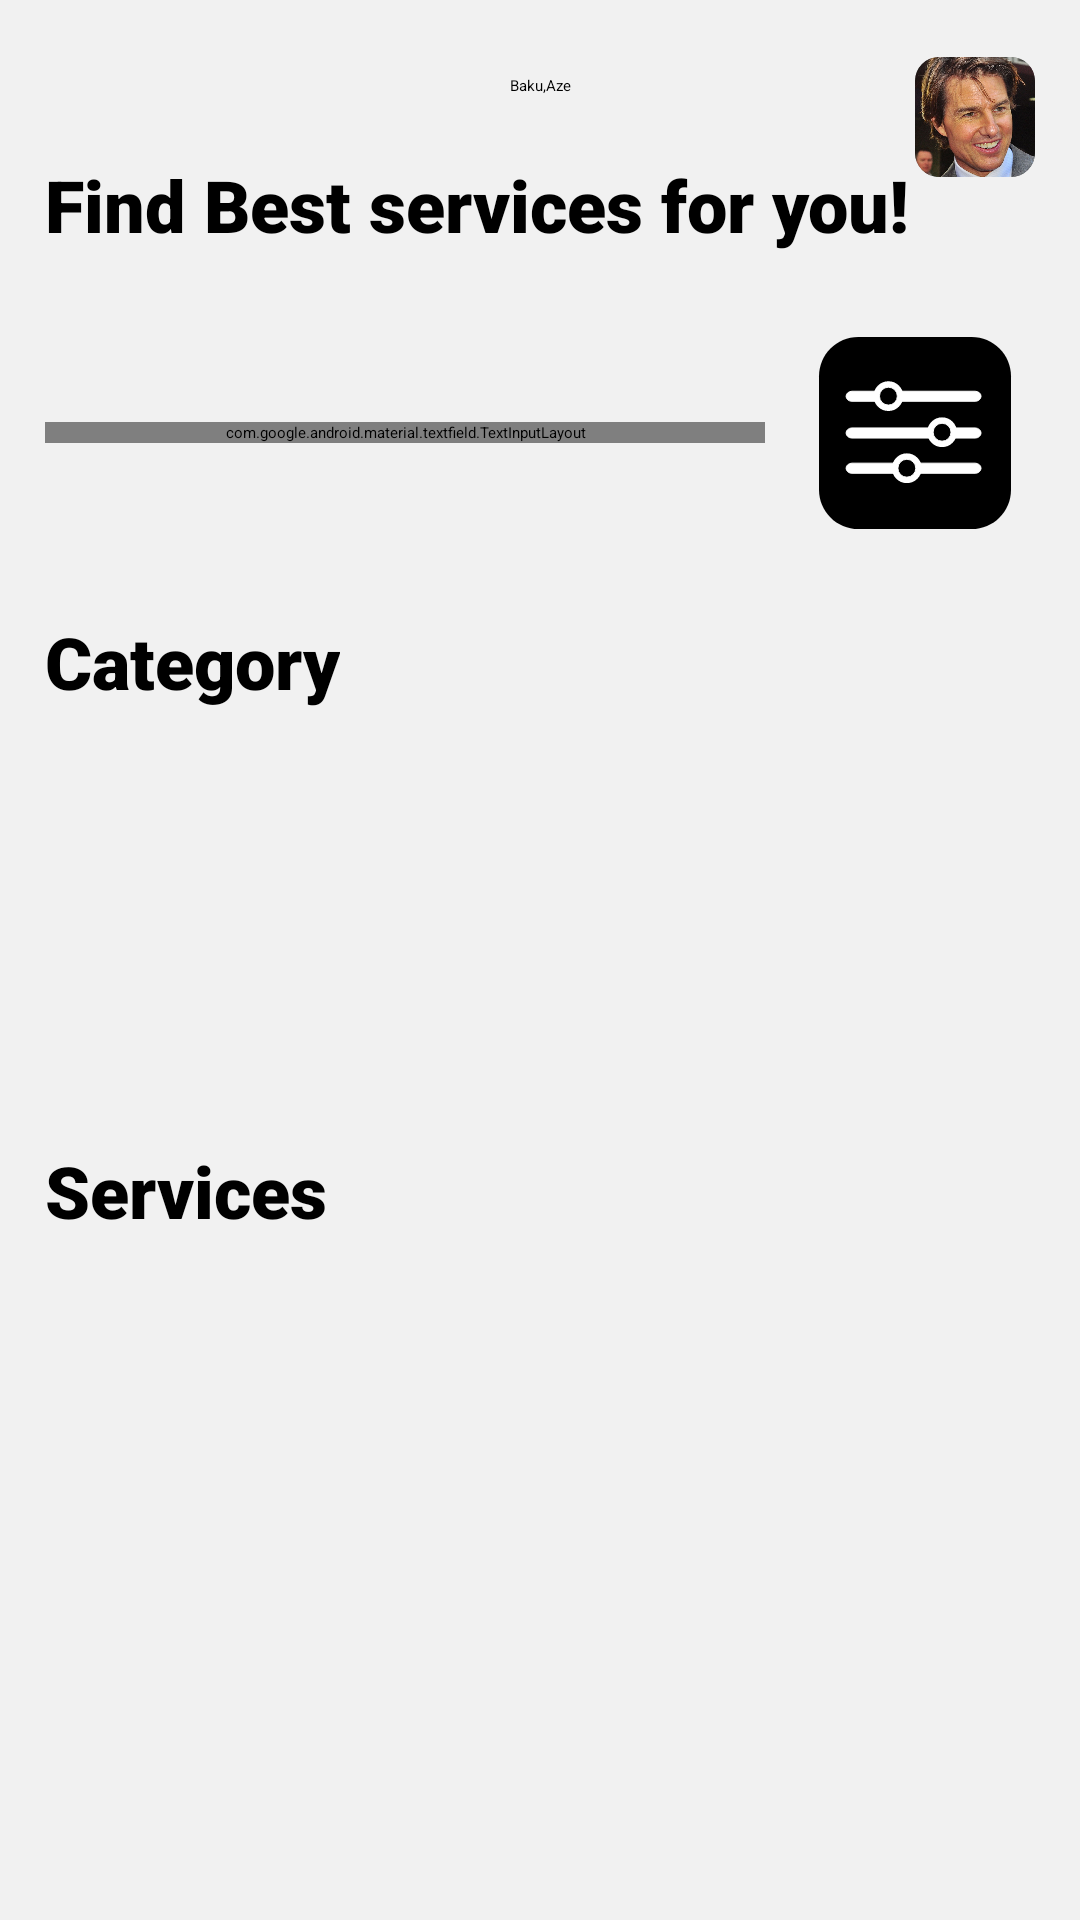

Icon click points for this 1080w x 1920h phone screenshot, format point (x, y):
filtere: point (915, 433)
